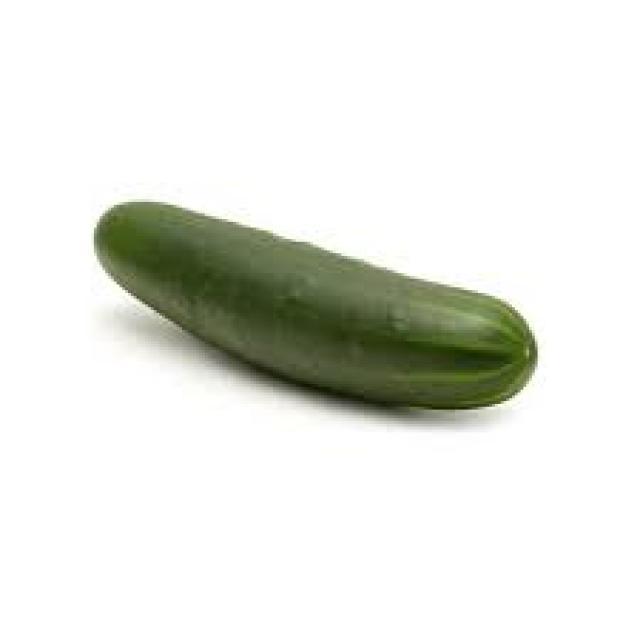cucumber: (91, 196, 538, 410)
